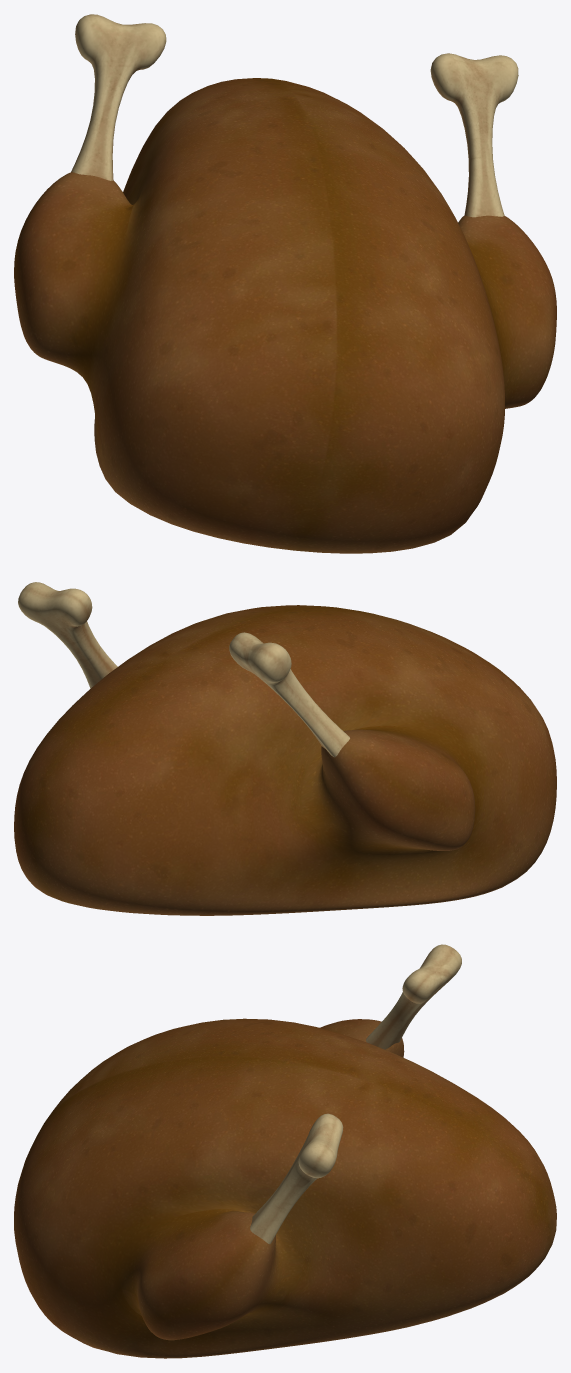
Rendered from chicken.glb.
3 views of the same model, one above another, from view 1: azimuth 30°, elevation 25°; view 2: azimuth 150°, elevation 25°; view 3: azimuth 270°, elevation 25° (orthographic). The views are drawn at different scales.
Parts seen in each view (by area): view 1: Cube.004; view 2: Cube.004; view 3: Cube.004.
Part boxes in pixels (bbox=[...]): Cube.004: bbox=[14, 14, 556, 553]; Cube.004: bbox=[14, 582, 556, 915]; Cube.004: bbox=[14, 944, 556, 1358].
Size of the model in its own units: 0.8256 by 0.6415 by 0.9254.
Materials: 1 (1 with a texture image).
